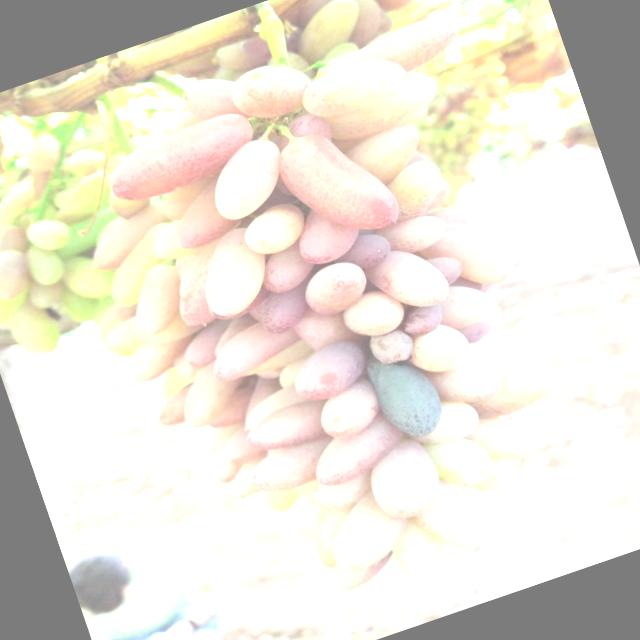grapes: (266, 116, 405, 256), (98, 105, 264, 212), (322, 9, 466, 96), (290, 46, 419, 133), (415, 205, 519, 302), (318, 66, 443, 144), (360, 340, 450, 447), (197, 131, 299, 225), (187, 220, 278, 322), (317, 486, 418, 576), (407, 469, 500, 565), (357, 432, 448, 528), (302, 411, 408, 491), (94, 222, 186, 310), (200, 311, 307, 385), (462, 349, 567, 423), (364, 237, 454, 322), (81, 200, 180, 276), (224, 52, 318, 130), (160, 238, 240, 329), (242, 433, 342, 502), (282, 334, 376, 407), (460, 402, 550, 478), (342, 120, 432, 195), (238, 392, 336, 460), (160, 172, 244, 250), (168, 354, 250, 430), (120, 258, 196, 338), (421, 347, 506, 418), (232, 193, 314, 266), (384, 510, 458, 590), (287, 194, 367, 268), (292, 252, 376, 322), (285, 0, 372, 67), (418, 424, 498, 496), (401, 318, 476, 382), (56, 242, 124, 312), (310, 380, 384, 444), (178, 69, 248, 136), (408, 392, 484, 452), (338, 282, 410, 344), (386, 156, 452, 222), (123, 328, 200, 384), (3, 296, 66, 362), (236, 382, 314, 435), (44, 171, 114, 230), (321, 544, 400, 596), (374, 207, 450, 261), (430, 274, 498, 334), (288, 298, 357, 355), (128, 306, 208, 354), (197, 422, 256, 486), (176, 316, 243, 369), (254, 242, 318, 296), (52, 208, 124, 256), (252, 283, 314, 338), (334, 228, 396, 280), (274, 109, 336, 160), (149, 378, 211, 428), (311, 470, 376, 516), (204, 311, 264, 359), (200, 382, 260, 430), (338, 0, 390, 50), (215, 420, 268, 468), (366, 323, 418, 370), (23, 211, 76, 257), (22, 237, 68, 290), (20, 128, 68, 176), (312, 506, 362, 551), (147, 218, 196, 263), (0, 245, 36, 305), (90, 301, 140, 343), (0, 181, 41, 232), (223, 458, 270, 502), (237, 373, 285, 416), (430, 199, 480, 239), (397, 300, 447, 340), (59, 144, 110, 182), (106, 182, 152, 224), (453, 308, 501, 348), (0, 276, 38, 326), (422, 250, 467, 292), (468, 456, 514, 497), (98, 316, 144, 356), (60, 284, 98, 326), (272, 354, 314, 390), (465, 334, 502, 372), (156, 364, 195, 400), (290, 0, 341, 27), (210, 41, 248, 76), (27, 280, 66, 312), (420, 176, 456, 210), (238, 32, 272, 68), (263, 486, 300, 514), (0, 223, 29, 257), (89, 298, 120, 329), (313, 536, 338, 572), (170, 106, 206, 131), (255, 362, 288, 384), (372, 0, 420, 15), (404, 147, 428, 168)
